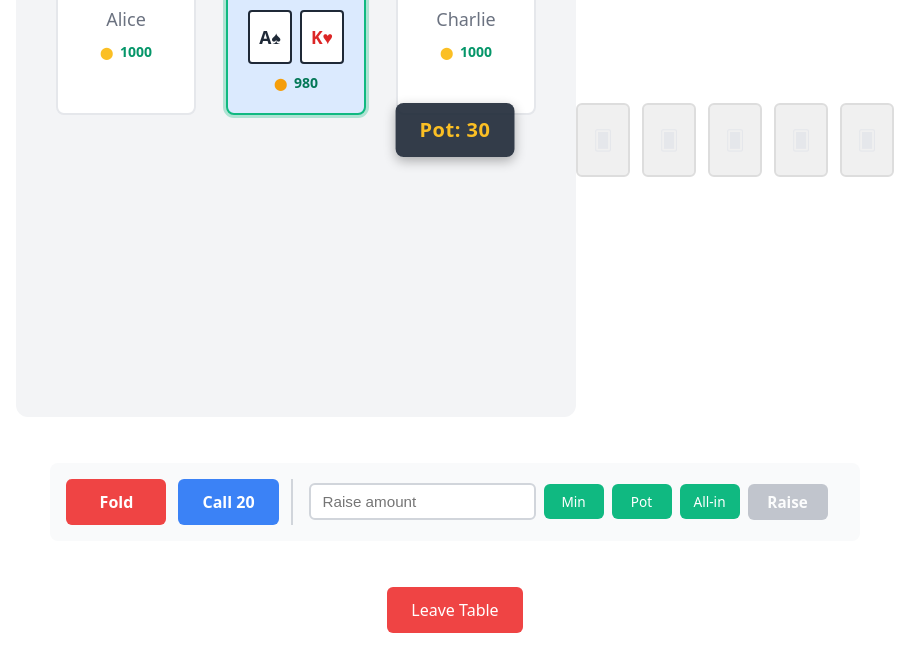
Action Bar Tests - Phase 5 › TestTableView_RaisePresets › should show All-in preset button and set raise to player stack
(page scrolled)
Click the button "All-in": (710, 502) [680, 484, 740, 519]
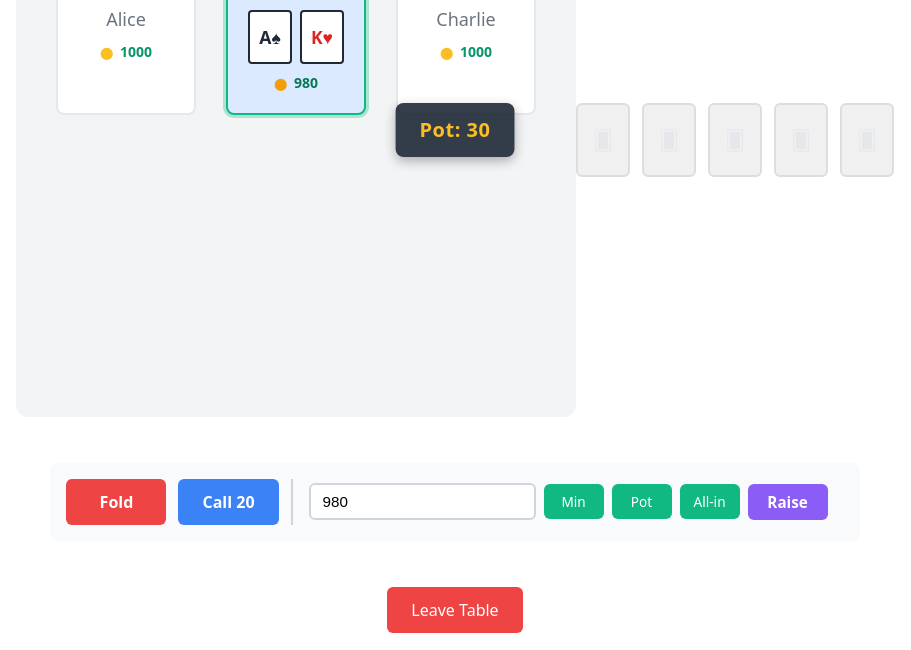
Check: the field showing "980" holds "980", box [308, 483, 536, 520]
